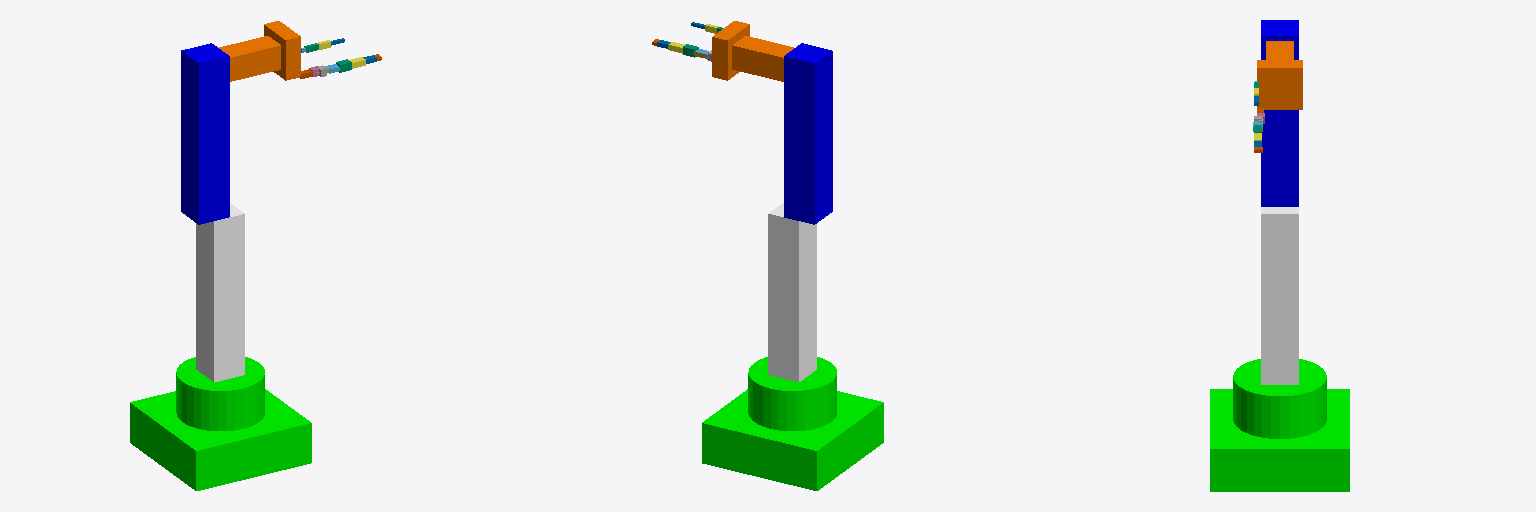
URDF robot description (robot):
<?xml version='1.0' encoding='utf-8'?>
<robot name="robot">
  <link name="base_link">
    <visual>
      <origin xyz="0 0 0.125" rpy="0 0 0" />
      <geometry>
        <box size="0.75 0.75 0.25" />
      </geometry>
      <material name="green" />
    </visual>
    <visual>
      <origin xyz="0 0 0.375" rpy="0 0 0" />
      <geometry>
        <cylinder length="0.25" radius="0.25" />
      </geometry>
      <material name="green">
        <color rgba="0 1 0 1" />
      </material>
    </visual>
    <collision>
      <geometry>
        <box size="0.75 0.75 0.5" />
      </geometry>
    </collision>
    <inertial>
      <mass value="0.5" />
      <inertia ixx="0.034" ixy="0.0" ixz="0.0" iyy="0.034" iyz="0.0" izz="0.034" />
    </inertial>
  </link>
  <link name="support_link">
    <visual>
      <origin xyz="0 0 0.5" rpy="0 0 0" />
      <geometry>
        <box size="0.2 0.2 1" />
      </geometry>
      <material name="white">
        <color rgba="1 1 1 1" />
      </material>
    </visual>
    <collision>
      <geometry>
        <box size="0.2 0.2 1" />
      </geometry>
    </collision>
    <inertial>
      <mass value="0.1" />
      <inertia ixx="0.01" ixy="0.0" ixz="0.0" iyy="0.01" iyz="0.0" izz="0.01" />
    </inertial>
  </link>
  <joint name="support_joint" type="continuous">
    <origin xyz="0 0 0.5" rpy="0 0 0" />
    <parent link="base_link" />
    <child link="support_link" />
    <axis xyz="0 0 1" />
  </joint>
  <link name="arm_link">
    <visual>
      <origin xyz="0 0 0.5" rpy="0 0 0" />
      <geometry>
        <box size="0.2 0.2 1" />
      </geometry>
      <material name="blue">
        <color rgba="0 0 1 1" />
      </material>
    </visual>
    <collision>
      <geometry>
        <box size="0.2 0.2 1" />
      </geometry>
    </collision>
    <inertial>
      <mass value="0.1" />
      <inertia ixx="0.01" ixy="0.0" ixz="0.0" iyy="0.01" iyz="0.0" izz="0.01" />
    </inertial>
  </link>
  <joint name="arm_joint" type="revolute">
    <origin xyz="-0.1 0 1" rpy="0 0 0" />
    <parent link="support_link" />
    <child link="arm_link" />
    <axis xyz="0 1 0" />
    <limit lower="-3.14" upper="3.14" effort="1.0" velocity="1.0" />
  </joint>
  <link name="wrist_link">
    <visual>
      <origin xyz="0 0 0.25" rpy="0 0 0" />
      <geometry>
        <box size="0.15 0.15 0.5" />
      </geometry>
      <material name="orange">
        <color rgba="1 0.5 0 1" />
      </material>
    </visual>
    <collision>
      <geometry>
        <box size="0.15 0.15 0.5" />
      </geometry>
    </collision>
    <inertial>
      <mass value="0.1" />
      <inertia ixx="0.01" ixy="0.0" ixz="0.0" iyy="0.01" iyz="0.0" izz="0.01" />
    </inertial>
  </link>
  <joint name="wrist_joint" type="fixed">
    <origin xyz="0 0 0.9" rpy="0 1.571 0" />
    <parent link="arm_link" />
    <child link="wrist_link" />
  </joint>
  <link name="palm_link">
    <visual>
      <origin xyz="0 0 0.05" rpy="0 0 0" />
      <geometry>
        <box size="0.25 0.25 0.1" />
      </geometry>
      <material name="orange" />
    </visual>
    <collision>
      <geometry>
        <box size="0.25 0.25 0.1" />
      </geometry>
    </collision>
    <inertial>
      <mass value="0.1" />
      <inertia ixx="0.01" ixy="0.0" ixz="0.0" iyy="0.01" iyz="0.0" izz="0.01" />
    </inertial>
  </link>
  <joint name="palm_joint" type="fixed">
    <origin xyz="0 0 0.45" rpy="0 0 0" />
    <parent link="wrist_link" />
    <child link="palm_link" />
  </joint>
  <link name="finger_link_0_0">
    <visual>
      <origin xyz="0 0 0.0385" rpy="0 0 0" />
      <geometry>
        <box size="0.029 0.04 0.077" />
      </geometry>
    </visual>
    <collision>
      <geometry>
        <box size="0.029 0.04 0.077" />
      </geometry>
    </collision>
    <inertial>
      <mass value="0.027" />
      <inertia ixx="0.0" iyy="0.0" izz="0.0" ixy="0" ixz="0" iyz="0" />
    </inertial>
  </link>
  <joint name="finger_joint_palm_link_to_finger_link_0_0" type="revolute">
    <origin xyz="0.125 -0.103 0.1" rpy="0 0 0" />
    <parent link="palm_link" />
    <child link="finger_link_0_0" />
    <axis xyz="0.0 1.0 0.0" />
    <limit lower="-3.142" upper="3.142" effort="10" velocity="10" />
  </joint>
  <link name="finger_link_0_1">
    <visual>
      <origin xyz="0 0 0.027" rpy="0 0 0" />
      <geometry>
        <box size="0.043 0.041 0.054" />
      </geometry>
    </visual>
    <collision>
      <geometry>
        <box size="0.043 0.041 0.054" />
      </geometry>
    </collision>
    <inertial>
      <mass value="0.029" />
      <inertia ixx="0.0" iyy="0.0" izz="0.0" ixy="0" ixz="0" iyz="0" />
    </inertial>
  </link>
  <joint name="finger_joint_finger_link_0_0_to_finger_link_0_1" type="revolute">
    <origin xyz="0.0 0.0 0.077" rpy="0 0 0" />
    <parent link="finger_link_0_0" />
    <child link="finger_link_0_1" />
    <axis xyz="1.0 1.0 0.0" />
    <limit lower="-3.142" upper="3.142" effort="10" velocity="10" />
  </joint>
  <link name="finger_link_0_2">
    <visual>
      <origin xyz="0 0 0.0195" rpy="0 0 0" />
      <geometry>
        <box size="0.031 0.024 0.039" />
      </geometry>
    </visual>
    <collision>
      <geometry>
        <box size="0.031 0.024 0.039" />
      </geometry>
    </collision>
    <inertial>
      <mass value="0.009" />
      <inertia ixx="0.0" iyy="0.0" izz="0.0" ixy="0" ixz="0" iyz="0" />
    </inertial>
  </link>
  <joint name="finger_joint_finger_link_0_1_to_finger_link_0_2" type="revolute">
    <origin xyz="0.0 0.0 0.054" rpy="0 0 0" />
    <parent link="finger_link_0_1" />
    <child link="finger_link_0_2" />
    <axis xyz="0.0 1.0 0.0" />
    <limit lower="-3.142" upper="3.142" effort="10" velocity="10" />
  </joint>
  <link name="finger_link_0_3">
    <visual>
      <origin xyz="0 0 0.04" rpy="0 0 0" />
      <geometry>
        <box size="0.022 0.023 0.08" />
      </geometry>
    </visual>
    <collision>
      <geometry>
        <box size="0.022 0.023 0.08" />
      </geometry>
    </collision>
    <inertial>
      <mass value="0.012" />
      <inertia ixx="0.0" iyy="0.0" izz="0.0" ixy="0" ixz="0" iyz="0" />
    </inertial>
  </link>
  <joint name="finger_joint_finger_link_0_2_to_finger_link_0_3" type="revolute">
    <origin xyz="0.0 0.0 0.039" rpy="0 0 0" />
    <parent link="finger_link_0_2" />
    <child link="finger_link_0_3" />
    <axis xyz="1.0 0.0 0.0" />
    <limit lower="-3.142" upper="3.142" effort="10" velocity="10" />
  </joint>
  <link name="finger_link_1_0">
    <visual>
      <origin xyz="0 0 0.0135" rpy="0 0 0" />
      <geometry>
        <box size="0.023 0.017 0.027" />
      </geometry>
    </visual>
    <collision>
      <geometry>
        <box size="0.023 0.017 0.027" />
      </geometry>
    </collision>
    <inertial>
      <mass value="0.003" />
      <inertia ixx="0.0" iyy="0.0" izz="0.0" ixy="0" ixz="0" iyz="0" />
    </inertial>
  </link>
  <joint name="finger_joint_palm_link_to_finger_link_1_0" type="revolute">
    <origin xyz="-0.039 -0.125 0.1" rpy="0 0 0" />
    <parent link="palm_link" />
    <child link="finger_link_1_0" />
    <axis xyz="1.0 0.0 0.0" />
    <limit lower="-3.142" upper="3.142" effort="10" velocity="10" />
  </joint>
  <link name="finger_link_1_1">
    <visual>
      <origin xyz="0 0 0.0395" rpy="0 0 0" />
      <geometry>
        <box size="0.035 0.022 0.079" />
      </geometry>
    </visual>
    <collision>
      <geometry>
        <box size="0.035 0.022 0.079" />
      </geometry>
    </collision>
    <inertial>
      <mass value="0.018" />
      <inertia ixx="0.0" iyy="0.0" izz="0.0" ixy="0" ixz="0" iyz="0" />
    </inertial>
  </link>
  <joint name="finger_joint_finger_link_1_0_to_finger_link_1_1" type="revolute">
    <origin xyz="0.0 0.0 0.027" rpy="0 0 0" />
    <parent link="finger_link_1_0" />
    <child link="finger_link_1_1" />
    <axis xyz="1.0 1.0 0.0" />
    <limit lower="-3.142" upper="3.142" effort="10" velocity="10" />
  </joint>
  <link name="finger_link_1_2">
    <visual>
      <origin xyz="0 0 0.0405" rpy="0 0 0" />
      <geometry>
        <box size="0.037 0.027 0.081" />
      </geometry>
    </visual>
    <collision>
      <geometry>
        <box size="0.037 0.027 0.081" />
      </geometry>
    </collision>
    <inertial>
      <mass value="0.024" />
      <inertia ixx="0.0" iyy="0.0" izz="0.0" ixy="0" ixz="0" iyz="0" />
    </inertial>
  </link>
  <joint name="finger_joint_finger_link_1_1_to_finger_link_1_2" type="revolute">
    <origin xyz="0.0 0.0 0.079" rpy="0 0 0" />
    <parent link="finger_link_1_1" />
    <child link="finger_link_1_2" />
    <axis xyz="0.0 1.0 0.0" />
    <limit lower="-3.142" upper="3.142" effort="10" velocity="10" />
  </joint>
  <link name="finger_link_1_3">
    <visual>
      <origin xyz="0 0 0.046" rpy="0 0 0" />
      <geometry>
        <box size="0.017 0.022 0.092" />
      </geometry>
    </visual>
    <collision>
      <geometry>
        <box size="0.017 0.022 0.092" />
      </geometry>
    </collision>
    <inertial>
      <mass value="0.01" />
      <inertia ixx="0.0" iyy="0.0" izz="0.0" ixy="0" ixz="0" iyz="0" />
    </inertial>
  </link>
  <joint name="finger_joint_finger_link_1_2_to_finger_link_1_3" type="revolute">
    <origin xyz="0.0 0.0 0.081" rpy="0 0 0" />
    <parent link="finger_link_1_2" />
    <child link="finger_link_1_3" />
    <axis xyz="0.0 1.0 0.0" />
    <limit lower="-3.142" upper="3.142" effort="10" velocity="10" />
  </joint>
  <link name="finger_link_2_0">
    <visual>
      <origin xyz="0 0 0.0385" rpy="0 0 0" />
      <geometry>
        <box size="0.031 0.011 0.077" />
      </geometry>
    </visual>
    <collision>
      <geometry>
        <box size="0.031 0.011 0.077" />
      </geometry>
    </collision>
    <inertial>
      <mass value="0.008" />
      <inertia ixx="0.0" iyy="0.0" izz="0.0" ixy="0" ixz="0" iyz="0" />
    </inertial>
  </link>
  <joint name="finger_joint_palm_link_to_finger_link_2_0" type="revolute">
    <origin xyz="0.125 -0.117 0.1" rpy="0 0 0" />
    <parent link="palm_link" />
    <child link="finger_link_2_0" />
    <axis xyz="0.0 1.0 0.0" />
    <limit lower="-3.142" upper="3.142" effort="10" velocity="10" />
  </joint>
  <link name="finger_link_2_1">
    <visual>
      <origin xyz="0 0 0.0205" rpy="0 0 0" />
      <geometry>
        <box size="0.011 0.029 0.041" />
      </geometry>
    </visual>
    <collision>
      <geometry>
        <box size="0.011 0.029 0.041" />
      </geometry>
    </collision>
    <inertial>
      <mass value="0.004" />
      <inertia ixx="0.0" iyy="0.0" izz="0.0" ixy="0" ixz="0" iyz="0" />
    </inertial>
  </link>
  <joint name="finger_joint_finger_link_2_0_to_finger_link_2_1" type="revolute">
    <origin xyz="0.0 0.0 0.077" rpy="0 0 0" />
    <parent link="finger_link_2_0" />
    <child link="finger_link_2_1" />
    <axis xyz="1.0 0.0 0.0" />
    <limit lower="-3.142" upper="3.142" effort="10" velocity="10" />
  </joint>
  <link name="finger_link_2_2">
    <visual>
      <origin xyz="0 0 0.0195" rpy="0 0 0" />
      <geometry>
        <box size="0.047 0.046 0.039" />
      </geometry>
    </visual>
    <collision>
      <geometry>
        <box size="0.047 0.046 0.039" />
      </geometry>
    </collision>
    <inertial>
      <mass value="0.025" />
      <inertia ixx="0.0" iyy="0.0" izz="0.0" ixy="0" ixz="0" iyz="0" />
    </inertial>
  </link>
  <joint name="finger_joint_finger_link_2_1_to_finger_link_2_2" type="revolute">
    <origin xyz="0.0 0.0 0.041" rpy="0 0 0" />
    <parent link="finger_link_2_1" />
    <child link="finger_link_2_2" />
    <axis xyz="0.0 1.0 0.0" />
    <limit lower="-3.142" upper="3.142" effort="10" velocity="10" />
  </joint>
  <link name="finger_link_2_3">
    <visual>
      <origin xyz="0 0 0.008" rpy="0 0 0" />
      <geometry>
        <box size="0.023 0.037 0.016" />
      </geometry>
    </visual>
    <collision>
      <geometry>
        <box size="0.023 0.037 0.016" />
      </geometry>
    </collision>
    <inertial>
      <mass value="0.004" />
      <inertia ixx="0.0" iyy="0.0" izz="0.0" ixy="0" ixz="0" iyz="0" />
    </inertial>
  </link>
  <joint name="finger_joint_finger_link_2_2_to_finger_link_2_3" type="revolute">
    <origin xyz="0.0 0.0 0.039" rpy="0 0 0" />
    <parent link="finger_link_2_2" />
    <child link="finger_link_2_3" />
    <axis xyz="1.0 1.0 0.0" />
    <limit lower="-3.142" upper="3.142" effort="10" velocity="10" />
  </joint>
  <link name="finger_link_2_4">
    <visual>
      <origin xyz="0 0 0.034" rpy="0 0 0" />
      <geometry>
        <box size="0.027 0.049 0.068" />
      </geometry>
    </visual>
    <collision>
      <geometry>
        <box size="0.027 0.049 0.068" />
      </geometry>
    </collision>
    <inertial>
      <mass value="0.027" />
      <inertia ixx="0.0" iyy="0.0" izz="0.0" ixy="0" ixz="0" iyz="0" />
    </inertial>
  </link>
  <joint name="finger_joint_finger_link_2_3_to_finger_link_2_4" type="revolute">
    <origin xyz="0.0 0.0 0.016" rpy="0 0 0" />
    <parent link="finger_link_2_3" />
    <child link="finger_link_2_4" />
    <axis xyz="0.0 1.0 0.0" />
    <limit lower="-3.142" upper="3.142" effort="10" velocity="10" />
  </joint>
  <link name="finger_link_2_5">
    <visual>
      <origin xyz="0 0 0.0385" rpy="0 0 0" />
      <geometry>
        <box size="0.048 0.047 0.077" />
      </geometry>
    </visual>
    <collision>
      <geometry>
        <box size="0.048 0.047 0.077" />
      </geometry>
    </collision>
    <inertial>
      <mass value="0.052" />
      <inertia ixx="0.0" iyy="0.0" izz="0.0" ixy="0" ixz="0" iyz="0" />
    </inertial>
  </link>
  <joint name="finger_joint_finger_link_2_4_to_finger_link_2_5" type="revolute">
    <origin xyz="0.0 0.0 0.068" rpy="0 0 0" />
    <parent link="finger_link_2_4" />
    <child link="finger_link_2_5" />
    <axis xyz="0.0 1.0 0.0" />
    <limit lower="-3.142" upper="3.142" effort="10" velocity="10" />
  </joint>
  <link name="finger_link_2_6">
    <visual>
      <origin xyz="0 0 0.0465" rpy="0 0 0" />
      <geometry>
        <box size="0.035 0.046 0.093" />
      </geometry>
    </visual>
    <collision>
      <geometry>
        <box size="0.035 0.046 0.093" />
      </geometry>
    </collision>
    <inertial>
      <mass value="0.045" />
      <inertia ixx="0.0" iyy="0.0" izz="0.0" ixy="0" ixz="0" iyz="0" />
    </inertial>
  </link>
  <joint name="finger_joint_finger_link_2_5_to_finger_link_2_6" type="revolute">
    <origin xyz="0.0 0.0 0.077" rpy="0 0 0" />
    <parent link="finger_link_2_5" />
    <child link="finger_link_2_6" />
    <axis xyz="0.0 1.0 0.0" />
    <limit lower="-3.142" upper="3.142" effort="10" velocity="10" />
  </joint>
  <link name="finger_link_2_7">
    <visual>
      <origin xyz="0 0 0.0365" rpy="0 0 0" />
      <geometry>
        <box size="0.025 0.041 0.073" />
      </geometry>
    </visual>
    <collision>
      <geometry>
        <box size="0.025 0.041 0.073" />
      </geometry>
    </collision>
    <inertial>
      <mass value="0.022" />
      <inertia ixx="0.0" iyy="0.0" izz="0.0" ixy="0" ixz="0" iyz="0" />
    </inertial>
  </link>
  <joint name="finger_joint_finger_link_2_6_to_finger_link_2_7" type="revolute">
    <origin xyz="0.0 0.0 0.093" rpy="0 0 0" />
    <parent link="finger_link_2_6" />
    <child link="finger_link_2_7" />
    <axis xyz="0.0 1.0 0.0" />
    <limit lower="-3.142" upper="3.142" effort="10" velocity="10" />
  </joint>
  <link name="finger_link_2_8">
    <visual>
      <origin xyz="0 0 0.0165" rpy="0 0 0" />
      <geometry>
        <box size="0.019 0.048 0.033" />
      </geometry>
    </visual>
    <collision>
      <geometry>
        <box size="0.019 0.048 0.033" />
      </geometry>
    </collision>
    <inertial>
      <mass value="0.009" />
      <inertia ixx="0.0" iyy="0.0" izz="0.0" ixy="0" ixz="0" iyz="0" />
    </inertial>
  </link>
  <joint name="finger_joint_finger_link_2_7_to_finger_link_2_8" type="revolute">
    <origin xyz="0.0 0.0 0.073" rpy="0 0 0" />
    <parent link="finger_link_2_7" />
    <child link="finger_link_2_8" />
    <axis xyz="0.0 1.0 0.0" />
    <limit lower="-3.142" upper="3.142" effort="10" velocity="10" />
  </joint>
</robot>

--- Render facts (derived) ---
Views: 3 orthographic renders of the robot side by side, from view 1: azimuth 30°, elevation 25°; view 2: azimuth 150°, elevation 25°; view 3: azimuth 270°, elevation 25°.
Model robot with 22 links and 21 joints (18 revolute, 1 continuous, 2 fixed), rooted at base_link, posed all joints at 0.
Links seen in each view (by area): view 1: base_link, arm_link, support_link, wrist_link, palm_link; view 2: base_link, arm_link, support_link, wrist_link, palm_link; view 3: base_link, support_link, arm_link, palm_link, wrist_link.
Link boxes in pixels (box(x1,y1,x2,y2)): base_link: box(130, 357, 311, 490); arm_link: box(181, 43, 229, 224); support_link: box(196, 203, 244, 382); wrist_link: box(219, 36, 280, 81); palm_link: box(264, 21, 300, 80); base_link: box(702, 357, 883, 490); arm_link: box(784, 43, 832, 224); support_link: box(768, 203, 816, 381); wrist_link: box(732, 36, 793, 81); palm_link: box(712, 21, 749, 80); base_link: box(1210, 359, 1349, 491); support_link: box(1261, 207, 1298, 384); arm_link: box(1261, 20, 1298, 206); palm_link: box(1257, 60, 1302, 109); wrist_link: box(1266, 41, 1293, 59).
Size in the robot's own frame: 1.34 by 0.75 by 2.52 metres.
Geometry: primitives only (box / cylinder / sphere), no mesh files.